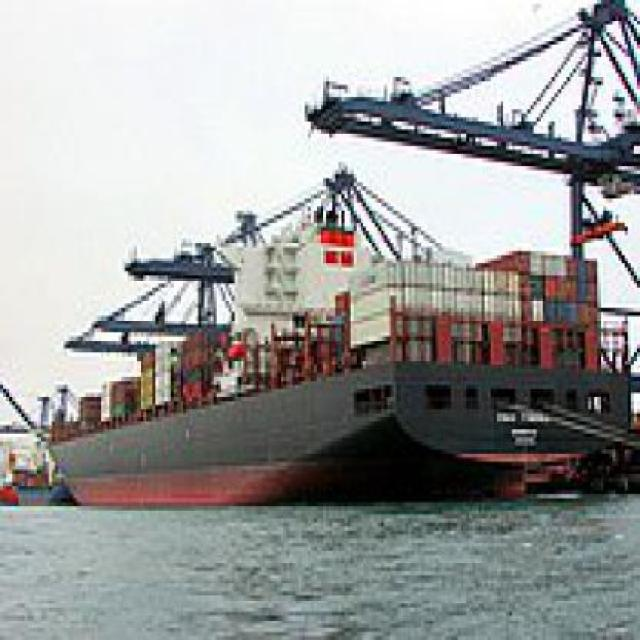container: (40, 151, 639, 516)
